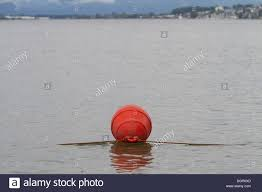buoy: (110, 107, 152, 147)
